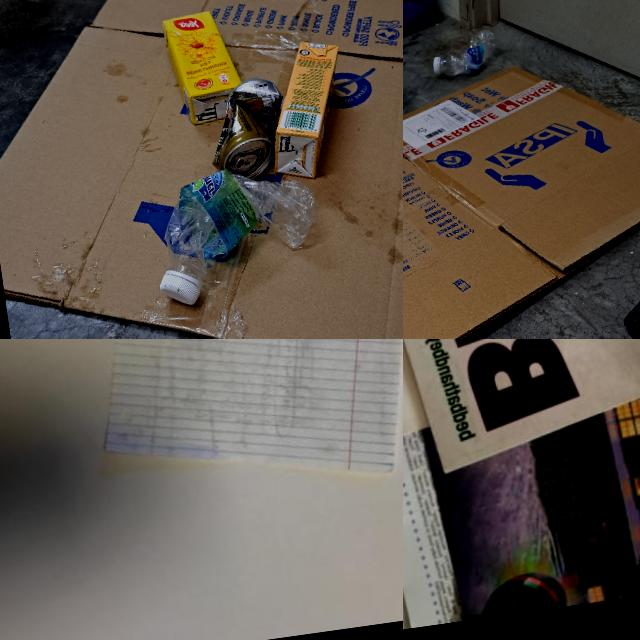caixinha: (258, 41, 354, 186), (164, 6, 248, 125)
garrafa plástica: (144, 163, 326, 313), (436, 28, 502, 79)
lata: (206, 78, 290, 182)
papel: (403, 339, 640, 634), (80, 339, 403, 509)
papelão: (0, 0, 403, 339), (403, 47, 640, 339)
sacola plástica: (403, 0, 440, 56)
tampa plástica: (156, 262, 206, 312), (432, 56, 442, 74)
